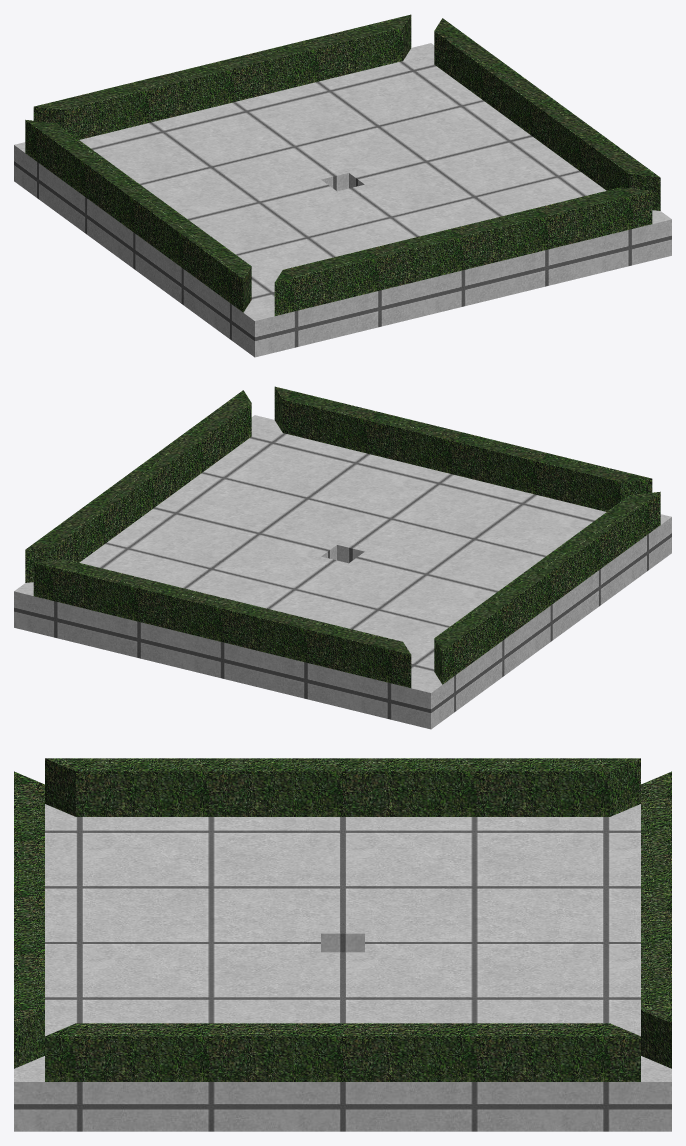
Rendered from table_27.05.2025.glb.
3 renders of one model, top to bottom at view 1: azimuth 30°, elevation 25°; view 2: azimuth 150°, elevation 25°; view 3: azimuth 270°, elevation 25°, orthographic. The views are drawn at different scales.
Visible parts, largest first — view 1: Ceiling Tile 600 x 600, Изгородь; view 2: Ceiling Tile 600 x 600, Изгородь; view 3: Ceiling Tile 600 x 600, Изгородь.
Part boxes in pixels (x1=…): Ceiling Tile 600 x 600: x1=14, y1=43, x2=671, y2=357; Изгородь: x1=25, y1=14, x2=660, y2=315; Ceiling Tile 600 x 600: x1=14, y1=415, x2=671, y2=729; Изгородь: x1=25, y1=386, x2=660, y2=687; Ceiling Tile 600 x 600: x1=14, y1=804, x2=671, y2=1131; Изгородь: x1=14, y1=758, x2=671, y2=1081.
Bounding box in the file's own units: 3 × 0.4796 × 3.
Materials: 2 (2 with a texture image).
